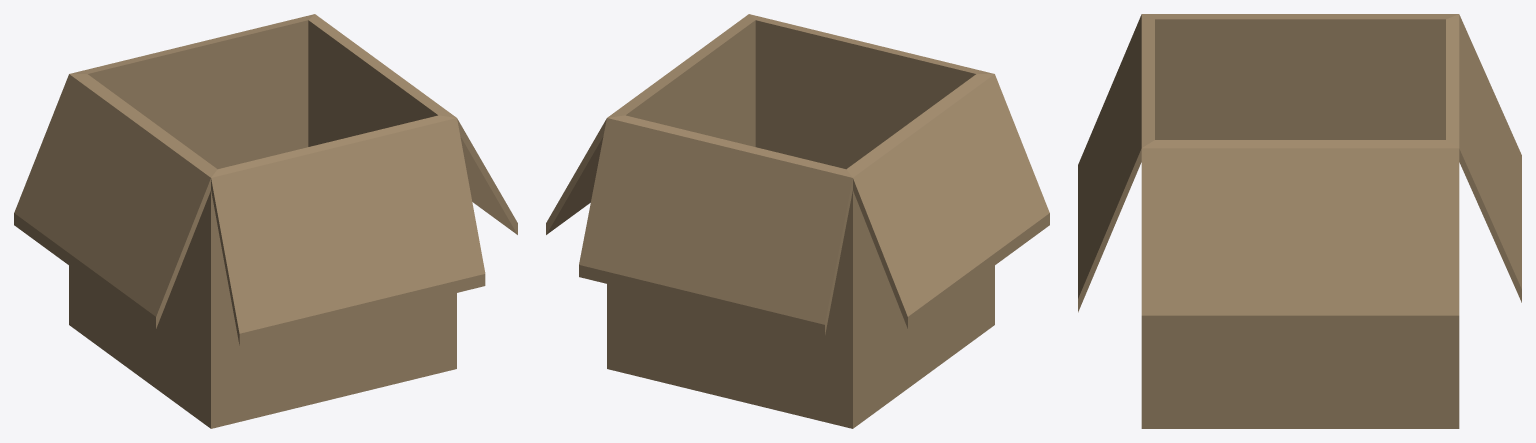
The model's file is CardboardBox.fbx.
The picture shows the model from 3 angles, left to right: view 1: azimuth 30°, elevation 25°; view 2: azimuth 150°, elevation 25°; view 3: azimuth 270°, elevation 25°; orthographic projection. The views are drawn at different scales.
Visible parts, largest first — view 1: CardboardBox; view 2: CardboardBox; view 3: CardboardBox.
Part boxes in pixels (bbox=[...]): CardboardBox: bbox=[14, 14, 517, 428]; CardboardBox: bbox=[546, 14, 1049, 428]; CardboardBox: bbox=[1078, 14, 1521, 428].
Bounding box in the file's own units: 0.9882 × 0.6586 × 0.9391.
